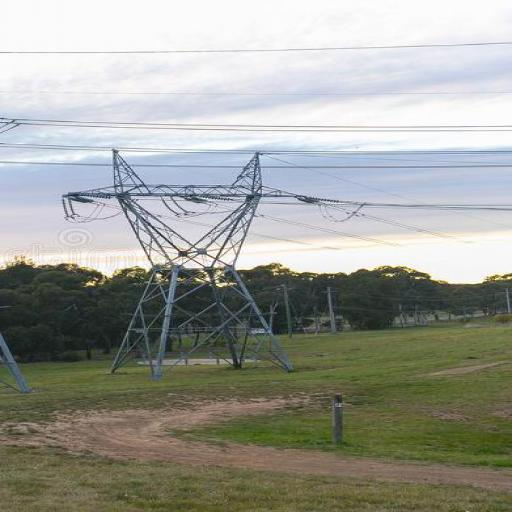wt_6: (64, 149, 318, 370)
